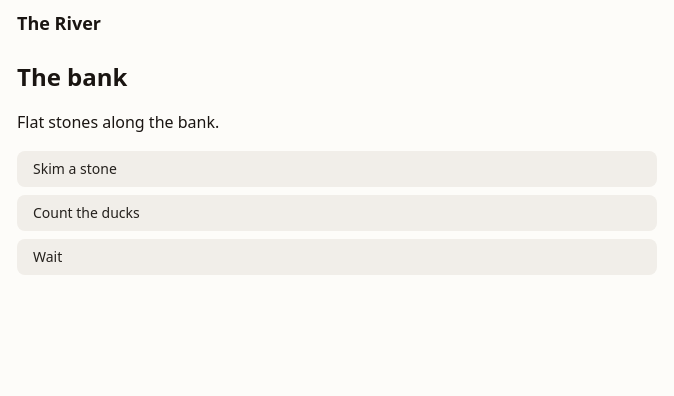
Test: DiceRoll › tumbles, then settles on the faces the engine rolled, with the total and the outcome, before its block comes
The image size is (674, 396).
Later steps or results of the test are not shown.
What coordinates should you click on to do the following:
click the button "Skim a stone"
I would click on:
 (75, 168)
Its box is [17,151,657,187].
Wait 1000 ms
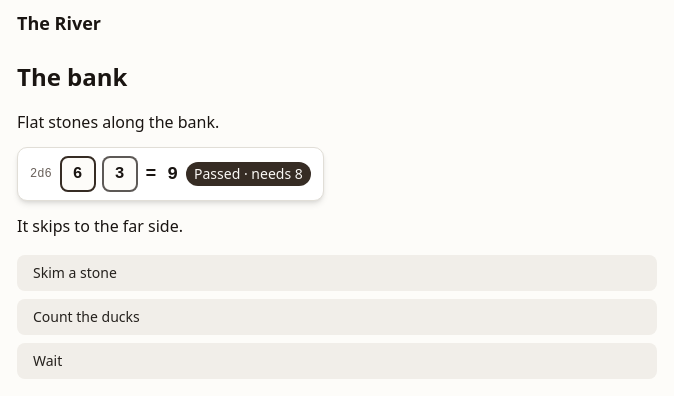
Expected: the element showing "It skips to the far side." is shown, [17,215,183,237]
Expected: the text "= 9" is shown, [146,160,178,188]
Expected: the text "Passed · needs 8" is shown, [186,162,311,186]
